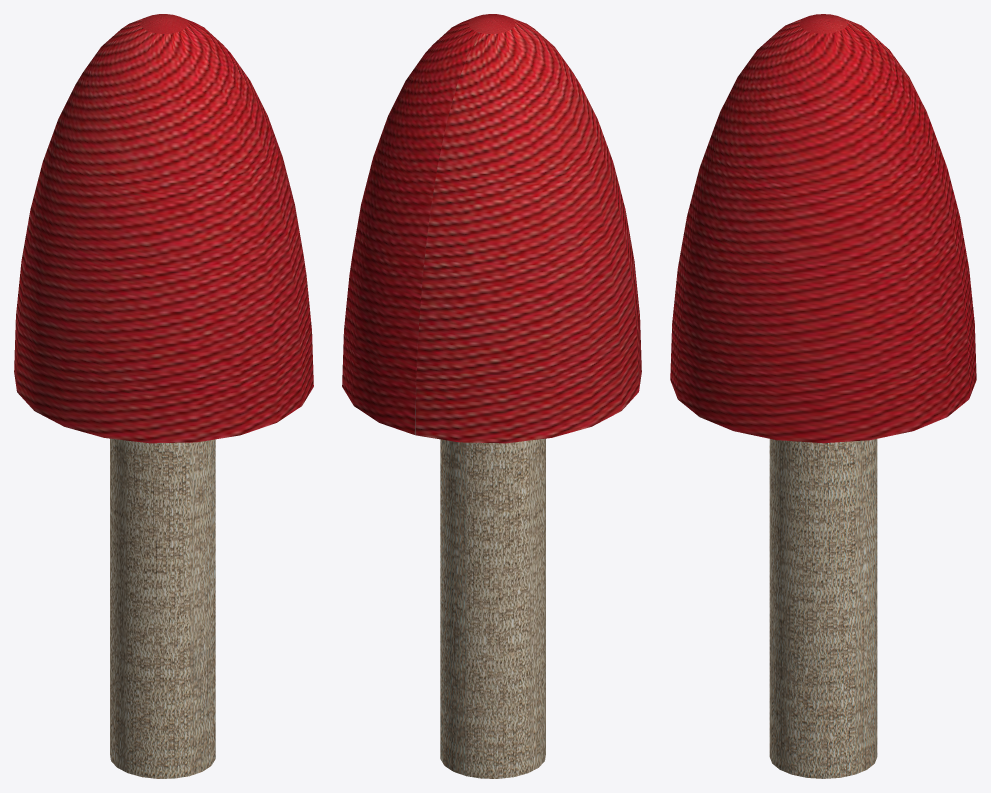
The model's file is mushroom_tall.fbx.
3 renders of one model, left to right at view 1: azimuth 30°, elevation 25°; view 2: azimuth 150°, elevation 25°; view 3: azimuth 270°, elevation 25°, orthographic.
Visible parts, largest first — view 1: mushroom_tall; view 2: mushroom_tall; view 3: mushroom_tall.
Part boxes in pixels (x1,y1,x2,y2): mushroom_tall: [14, 14, 313, 778]; mushroom_tall: [342, 14, 641, 778]; mushroom_tall: [670, 14, 976, 778].
Bounding box in the file's own units: 3.09 × 8.38 × 3.16.
